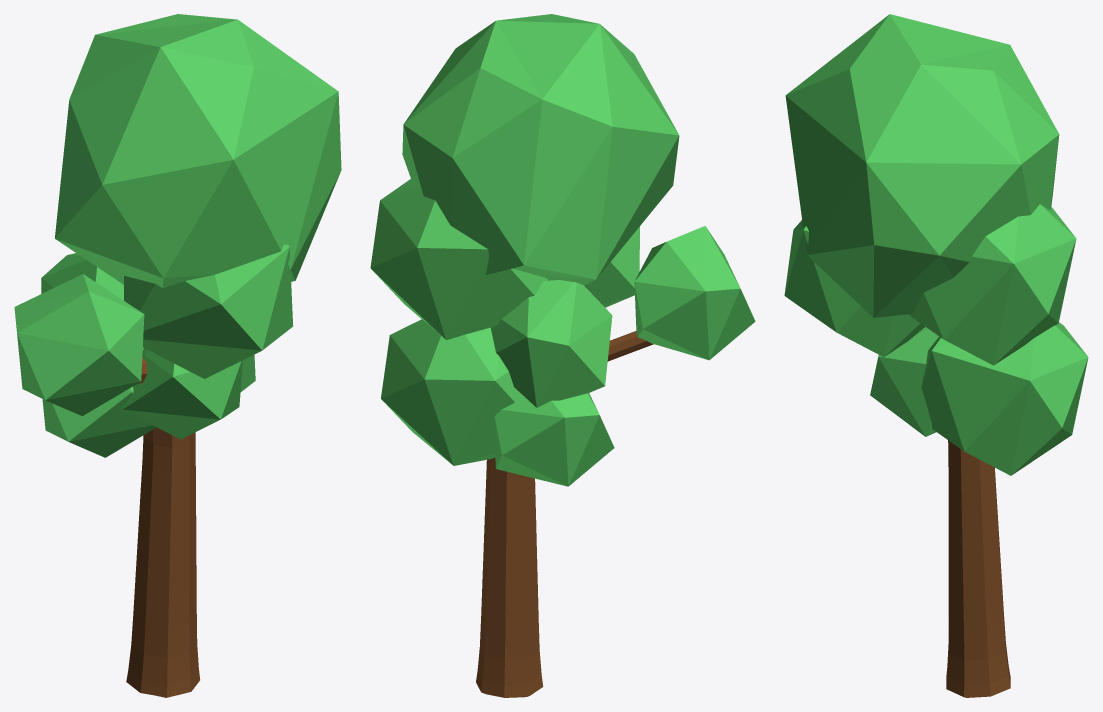
File: LowpolyTrees05.fbx
3 views of the same model, side by side, from view 1: azimuth 30°, elevation 25°; view 2: azimuth 150°, elevation 25°; view 3: azimuth 270°, elevation 25° (orthographic). The views are drawn at different scales.
Visible parts, largest first — view 1: Tree04; view 2: Tree04; view 3: Tree04.
Part boxes in pixels (x1,y1,x2,y2): Tree04: [14, 14, 341, 697]; Tree04: [370, 14, 755, 697]; Tree04: [784, 14, 1088, 697].
Size of what is drawn, in the model's own units: 261 by 518 by 219.
